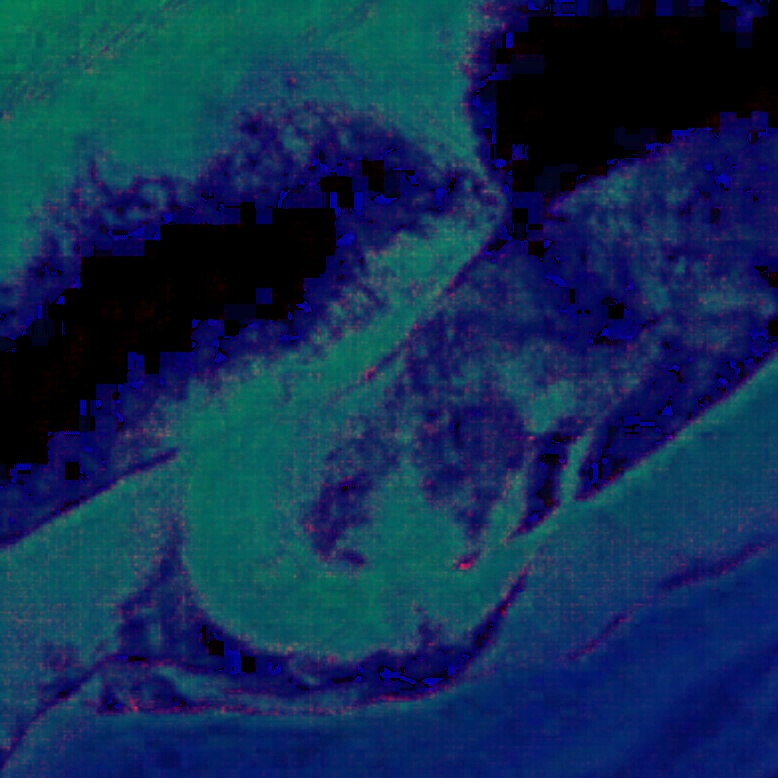rip_current: (110, 269, 568, 661)
